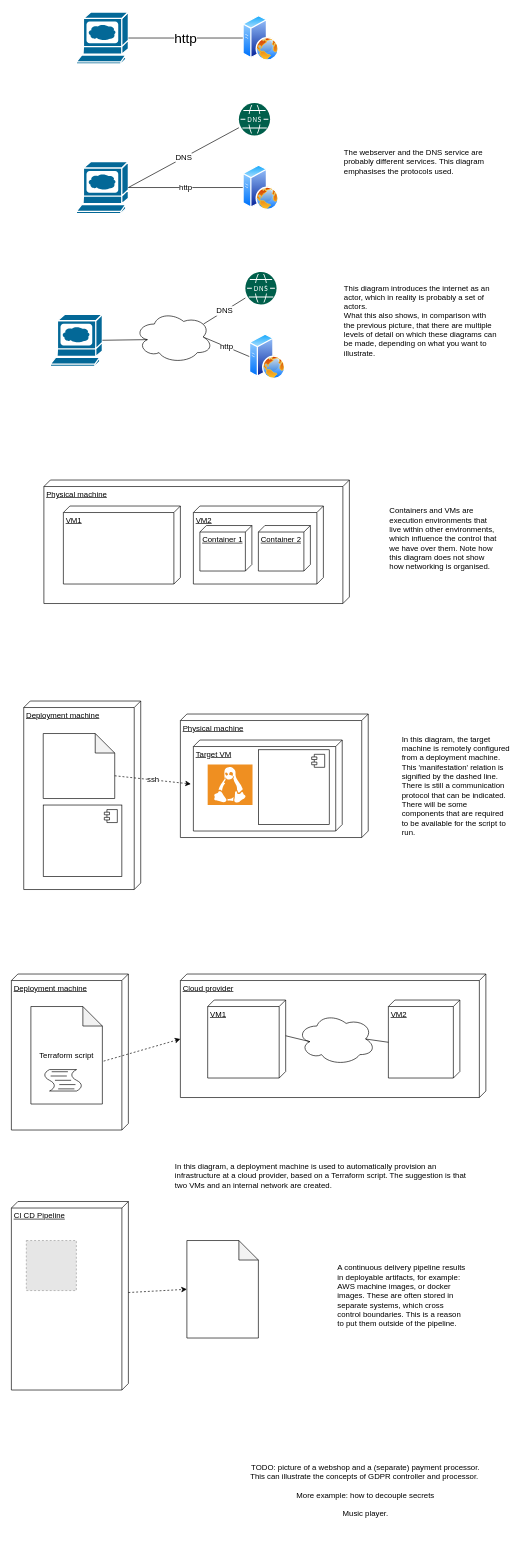
The diagram is 523 pixels wide and 1550 high, and some of its shapes have lost their labels. Grey dashed boxes stand in for pictures. The centre of each missing label's shape, as x and y in pixels:
"Ansible playbook" goes at [79,766].
"Components to install on the deployment machine: ansible ssh" goes at [82,840].
"Components to install on the target machine: e.g. nginx" goes at [293,787].
"Deployable artefact" goes at [222,1289].
"internal network" goes at [336,1038].
"internet" goes at [173,336].
